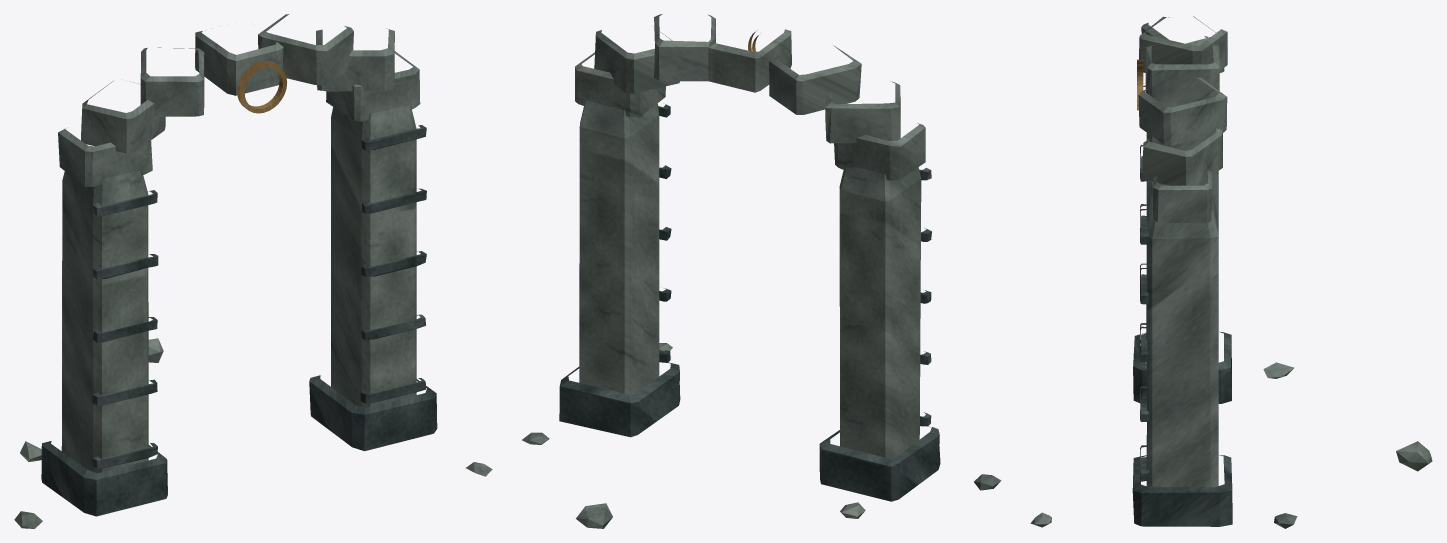
The model's file is 0313_archway_13.glb.
3 renders of one model, left to right at view 1: azimuth 30°, elevation 25°; view 2: azimuth 150°, elevation 25°; view 3: azimuth 270°, elevation 25°, orthographic. The views are drawn at different scales.
Parts seen in each view (by area): view 1: stone, stone_dark, brass; view 2: stone, stone_dark; view 3: stone, stone_dark.
Part boxes in pixels (left/top/right/bottom): stone: left=14, top=14, right=492, bottom=528; stone_dark: left=41, top=125, right=437, bottom=516; brass: left=237, top=61, right=287, bottom=113; stone: left=522, top=14, right=1001, bottom=528; stone_dark: left=559, top=104, right=940, bottom=501; stone: left=1030, top=16, right=1432, bottom=528; stone_dark: left=1132, top=85, right=1232, bottom=526.
Size of the model in its own units: 3.9 by 3.81 by 3.5.
Materials: 3 (3 with a texture image).
